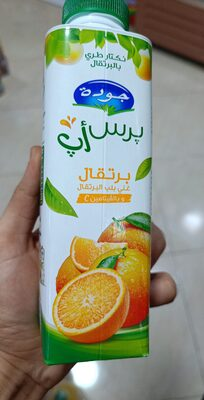Press Up moyen: (10, 20, 194, 380)
